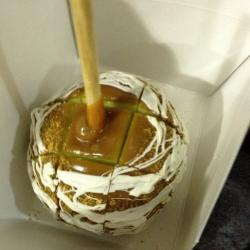icecream: (17, 68, 189, 234)
